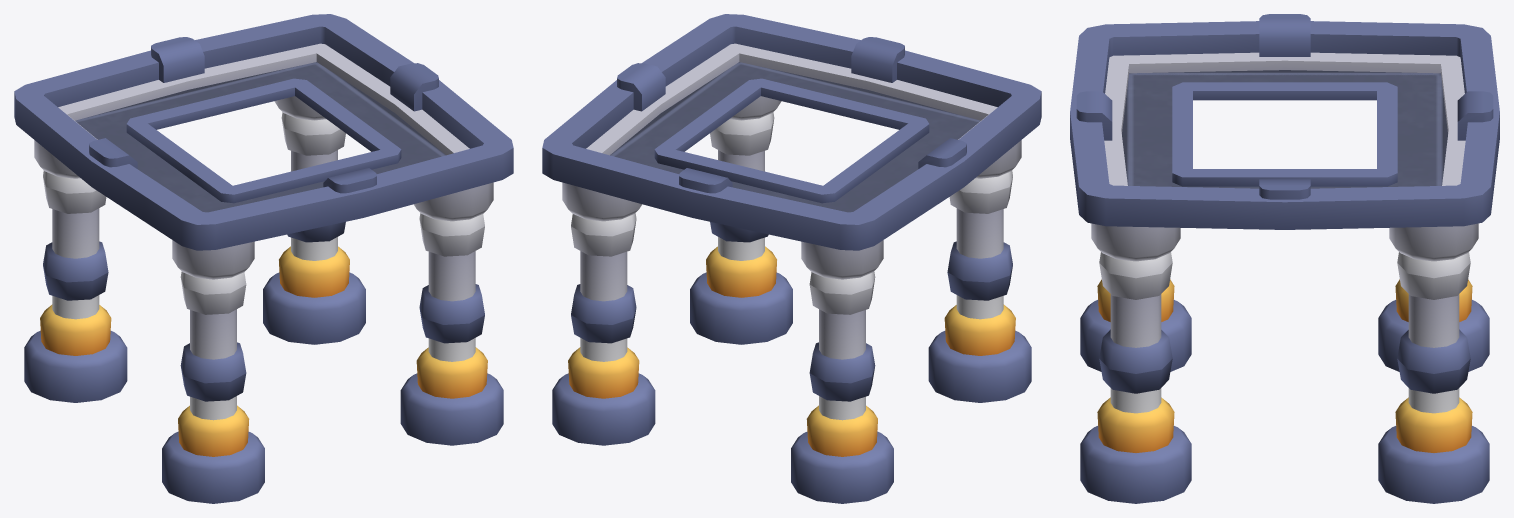
Rendered from kenney-space-template-floor-layer-hole.glb.
The picture shows the model from 3 angles, left to right: view 1: azimuth 30°, elevation 25°; view 2: azimuth 150°, elevation 25°; view 3: azimuth 270°, elevation 25°; orthographic projection. The views are drawn at different scales.
Visible parts, largest first — view 1: template-floor-layer-hole; view 2: template-floor-layer-hole; view 3: template-floor-layer-hole.
Boxes of the visible parts, box(x1,y1,x2,y2) form: template-floor-layer-hole: box(14, 14, 513, 503); template-floor-layer-hole: box(542, 14, 1041, 503); template-floor-layer-hole: box(1070, 14, 1499, 503).
Size of the model in its own units: 3.15 by 2.55 by 3.15.
Materials: 1 (1 with a texture image).
